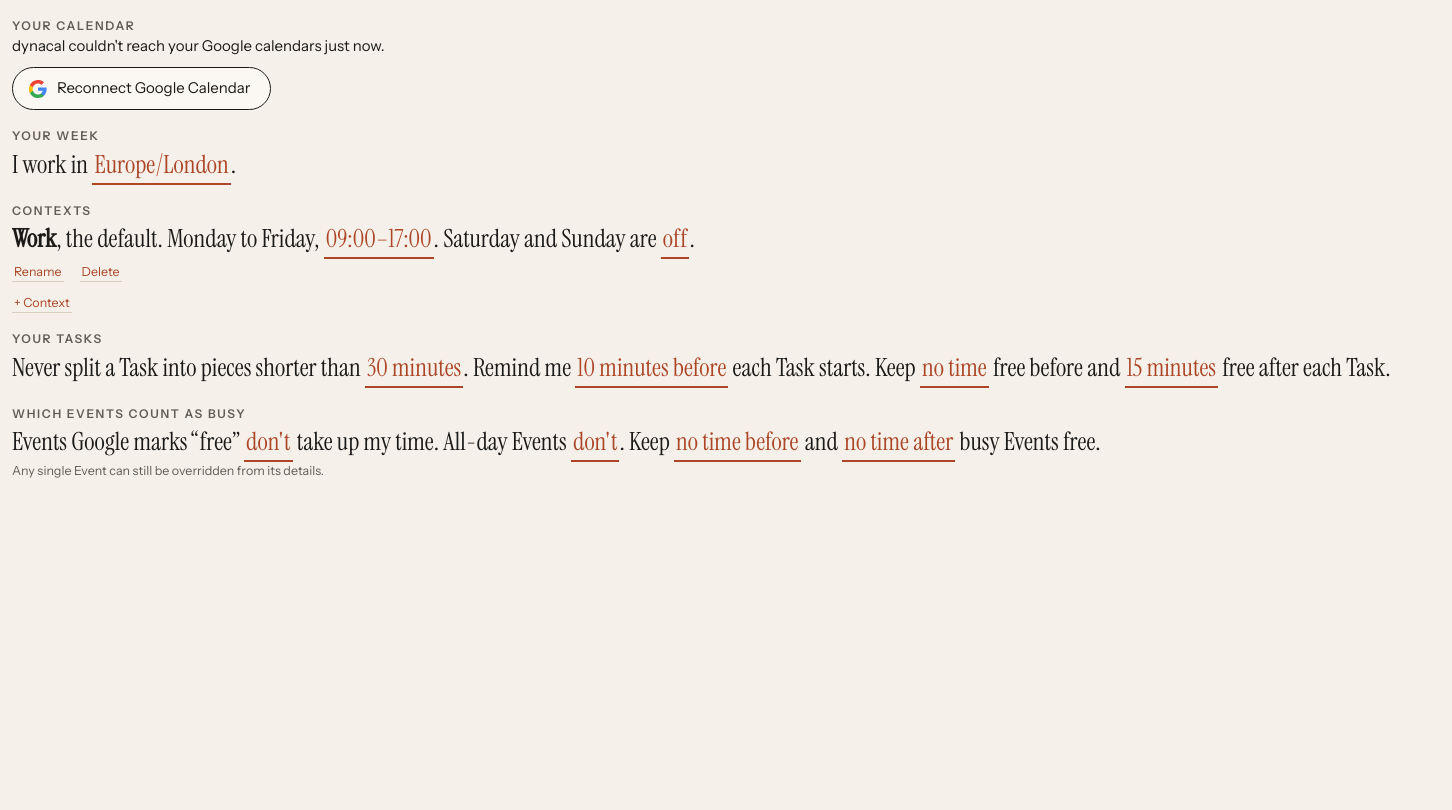
Settings save as you go › puts back the last saved value with Undo
The image size is (1452, 810).
Step 1. Click the button "30 minutes" → (414, 368), box [365, 348, 463, 388]
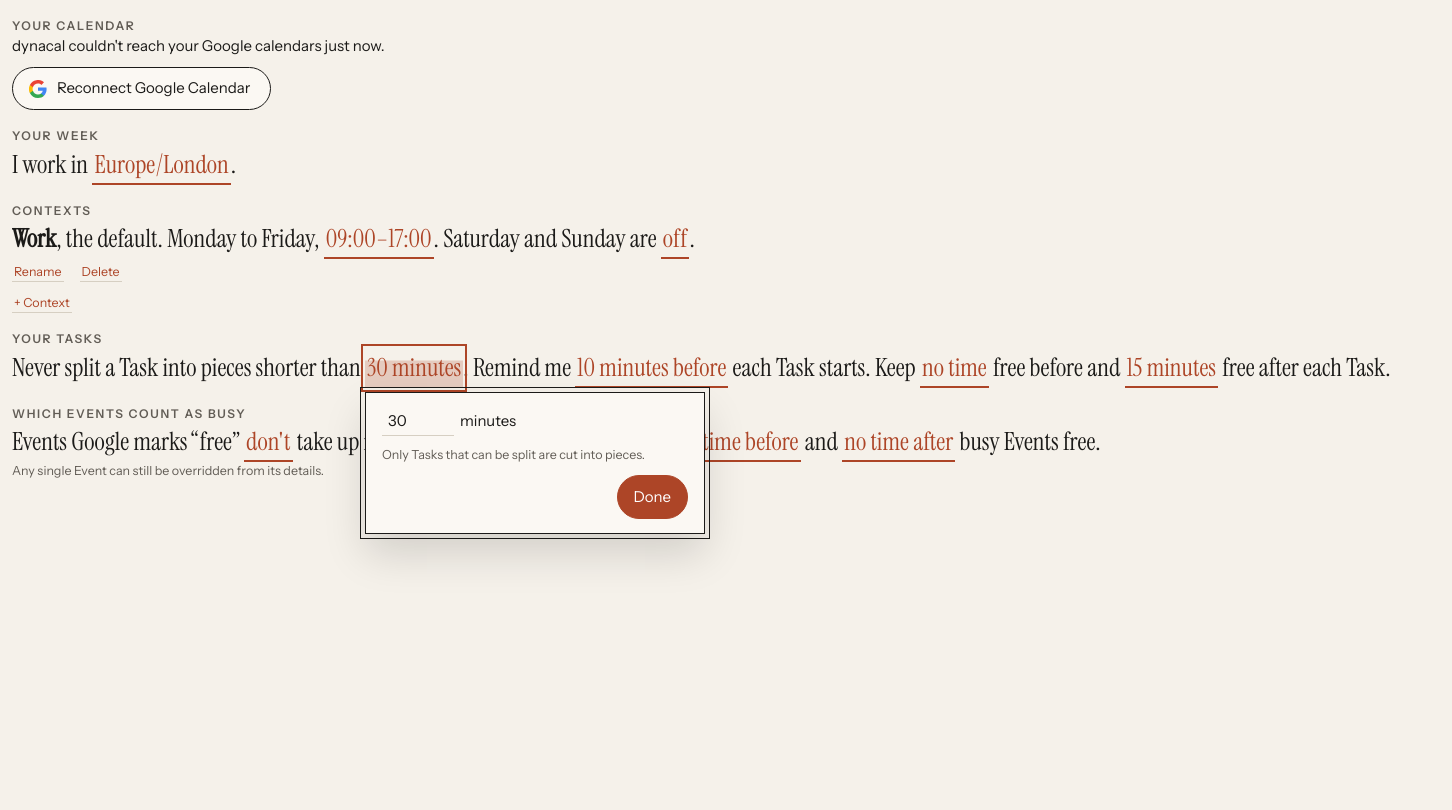
Step 2. Replace the text in the number field named "Shortest split piece" with "20" → (418, 421), box [382, 407, 454, 436]
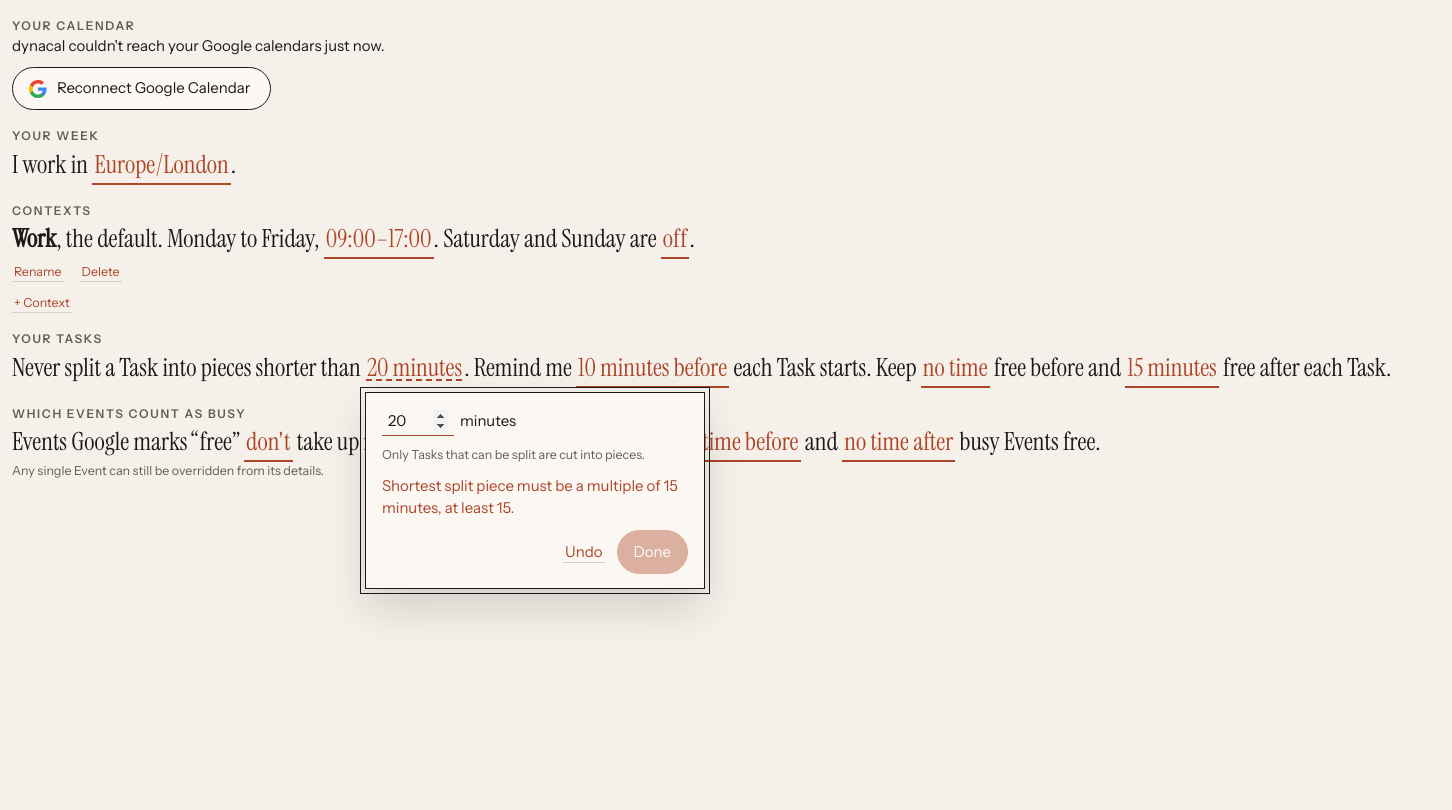
Step 3. Click the button "Undo" → (584, 552), box [563, 540, 604, 563]
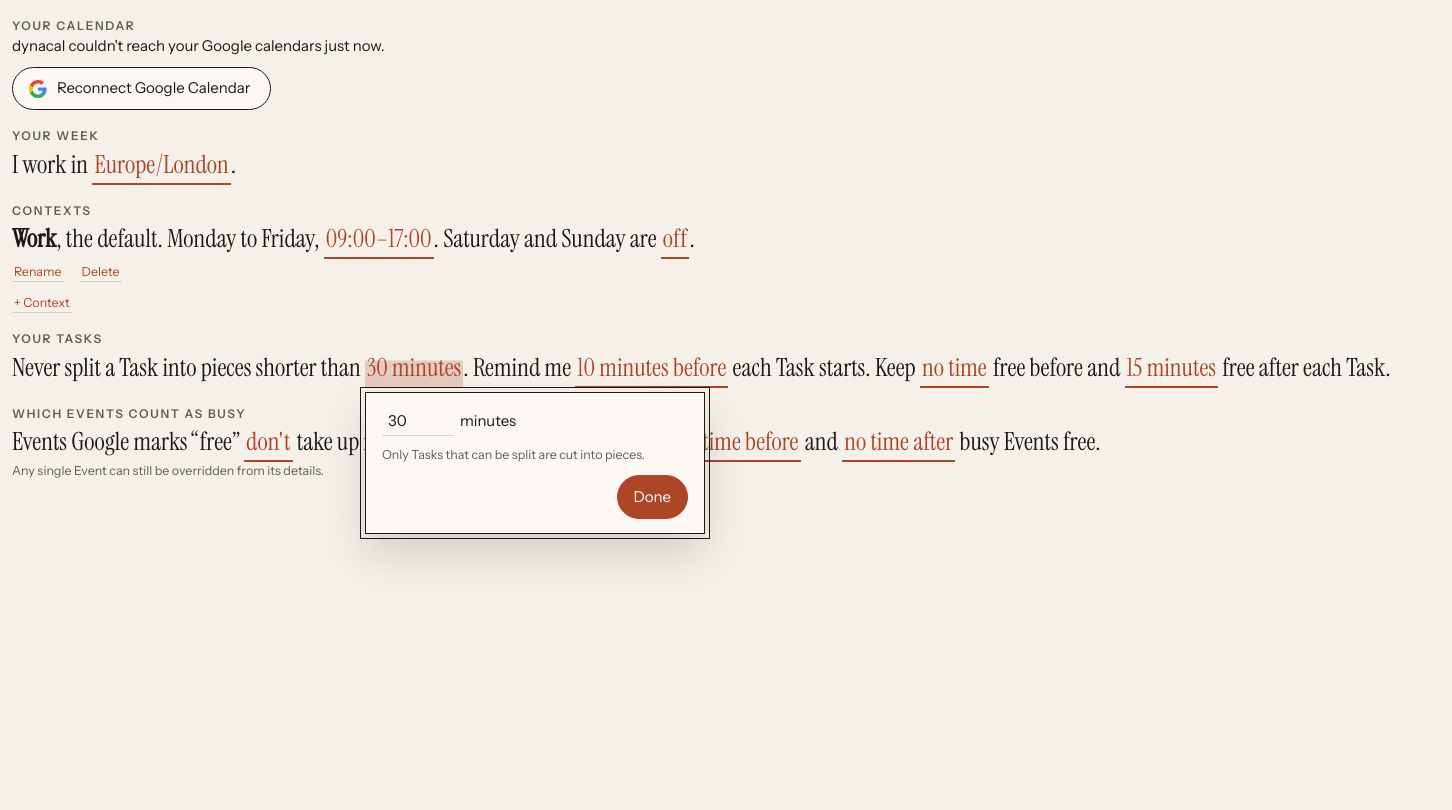
Result: the number field named "Shortest split piece" holds "30" at [382, 407, 454, 436]
Result: the message "Shortest split piece must be a multiple of 15 minutes, at least 15." is gone
